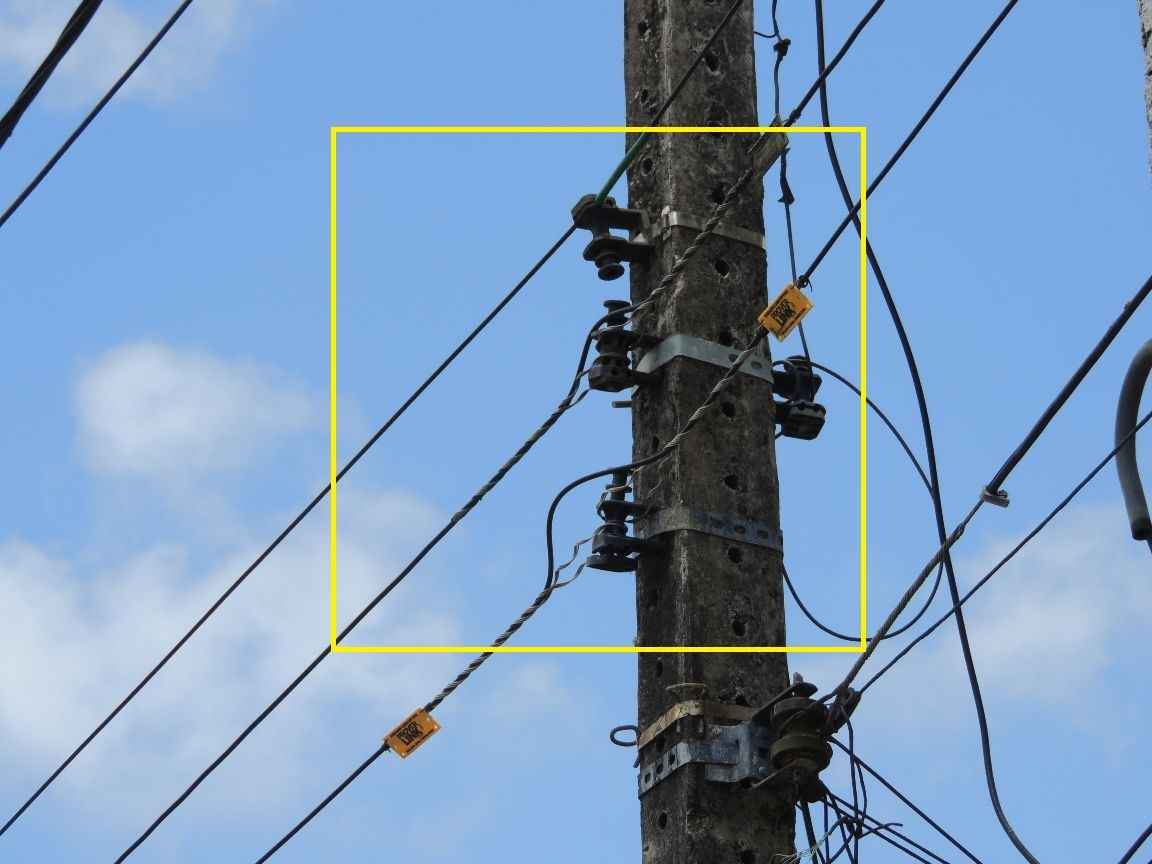drop: (742, 674, 882, 792)
fibra_optica: (562, 297, 684, 415), (537, 178, 649, 269), (741, 259, 822, 352), (385, 696, 439, 776), (662, 344, 699, 345)
poste: (630, 4, 789, 864)
